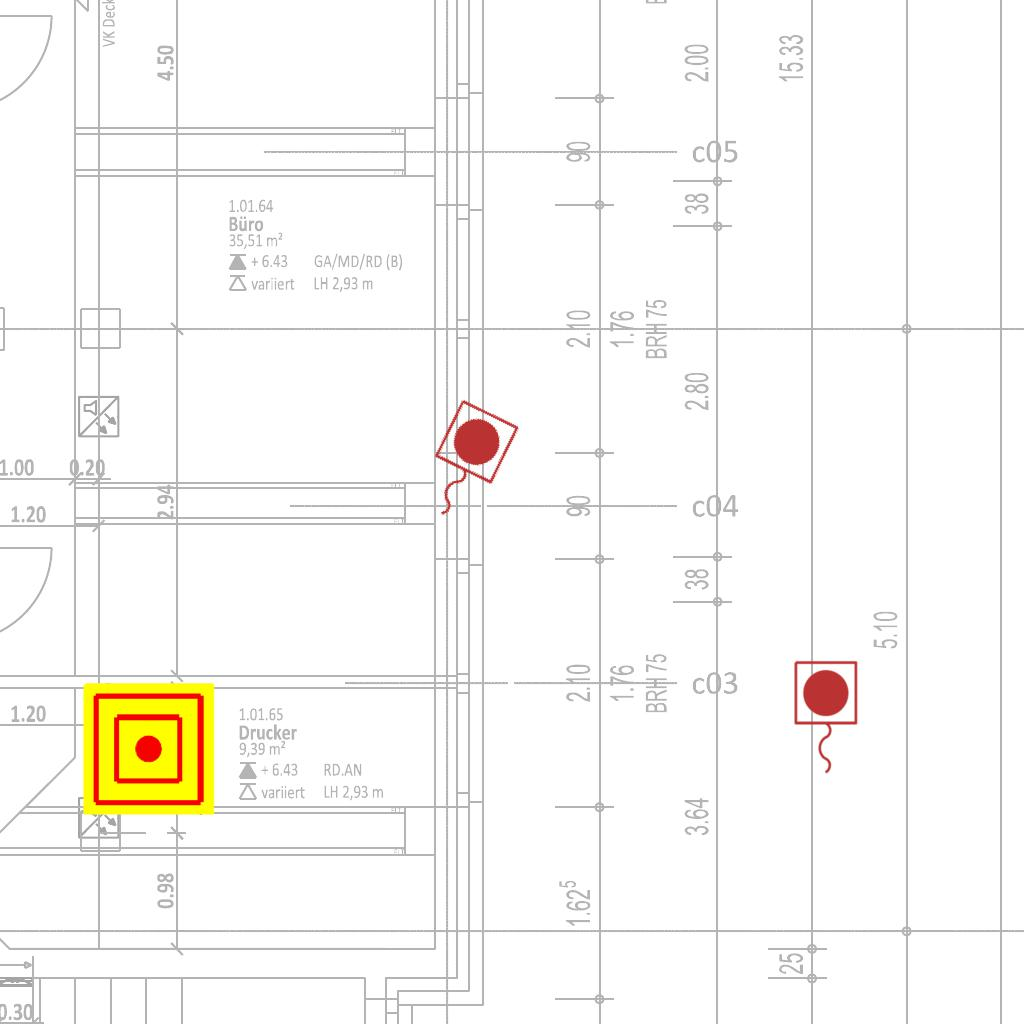NAM-Nichtautomatischer_Melder: (83, 683, 215, 815)
Zugtaster: (405, 393, 525, 535), (789, 657, 861, 779)
